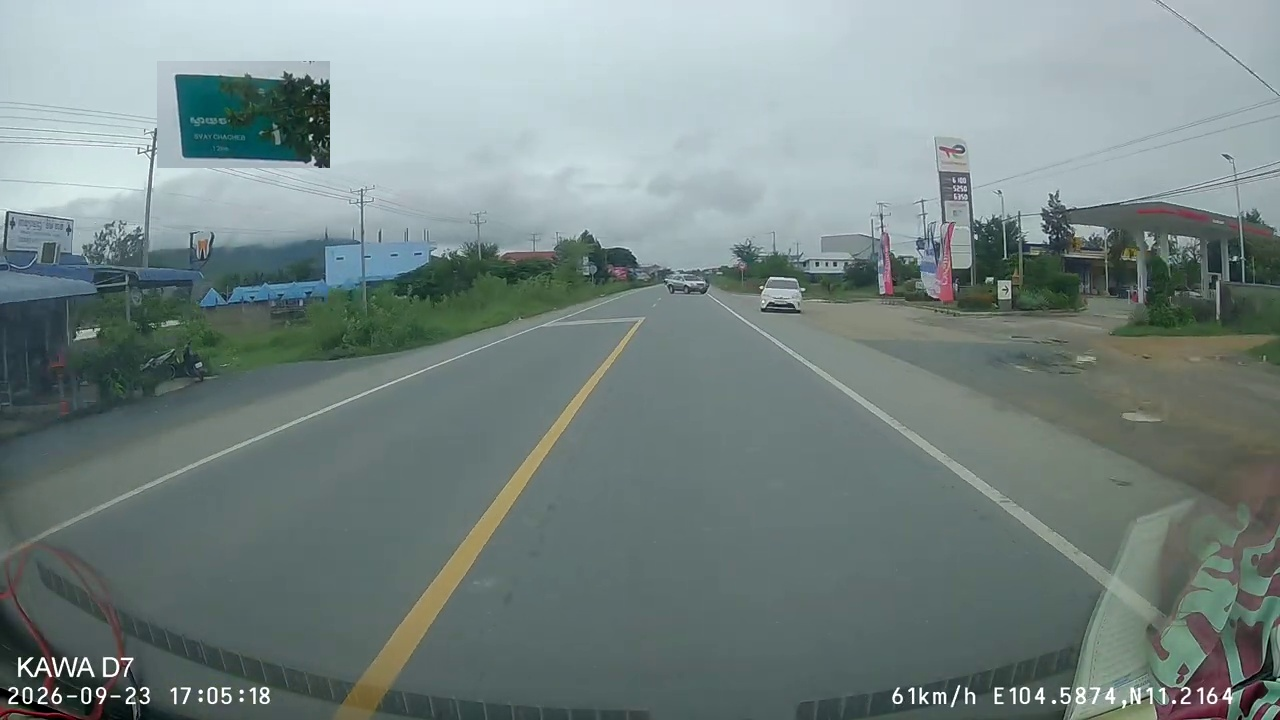direction_sign: (157, 61, 330, 168)
